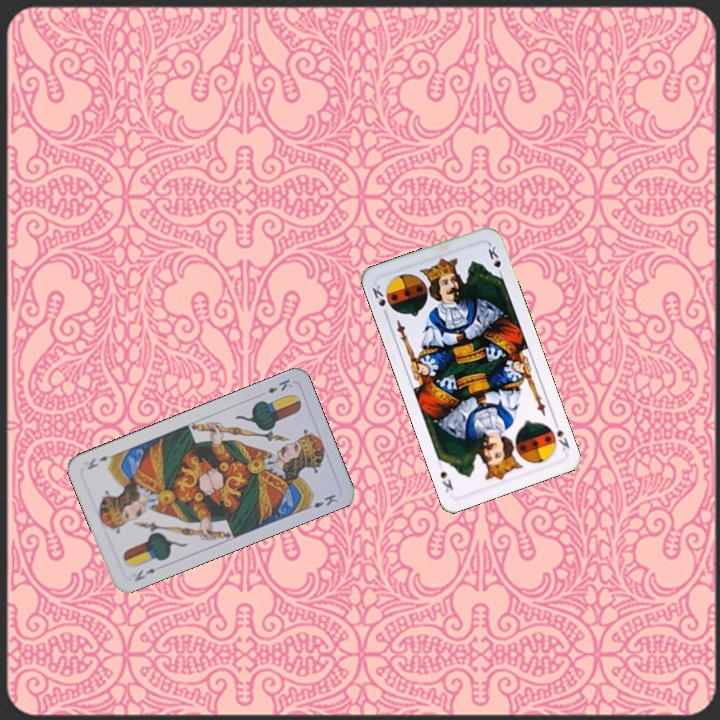EK: (264, 375, 295, 396), (130, 564, 158, 584)
SK: (544, 417, 572, 453), (368, 281, 390, 320)
